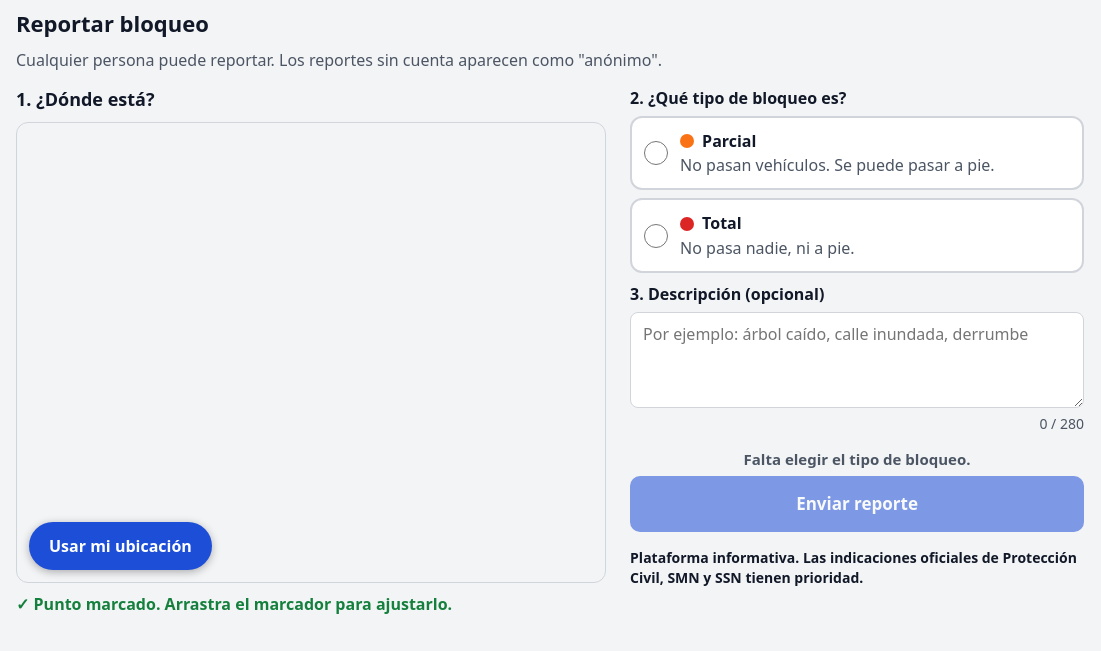
ReportarBloqueo › muestra el mensaje de límite de reportes y conserva el formulario
Click the radio button labelled "Total No pasa nadie, ni a pie.". click: click(656, 236)
box: [644,224,668,248]
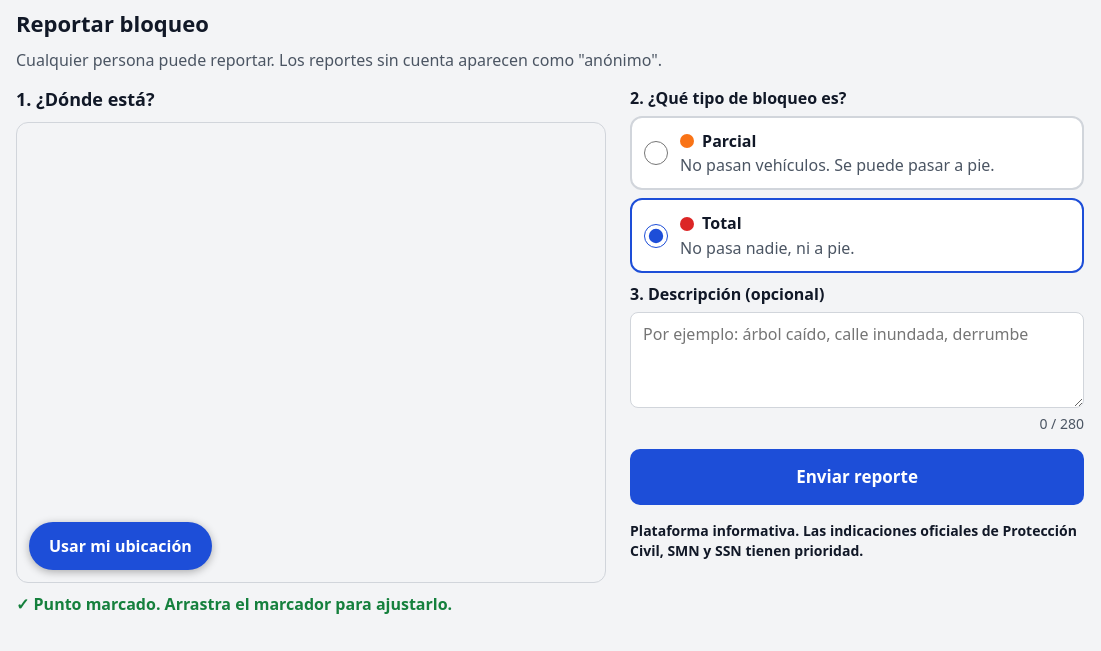
Click the button "Enviar reporte". click: click(857, 477)
box: [630,449,1084,505]
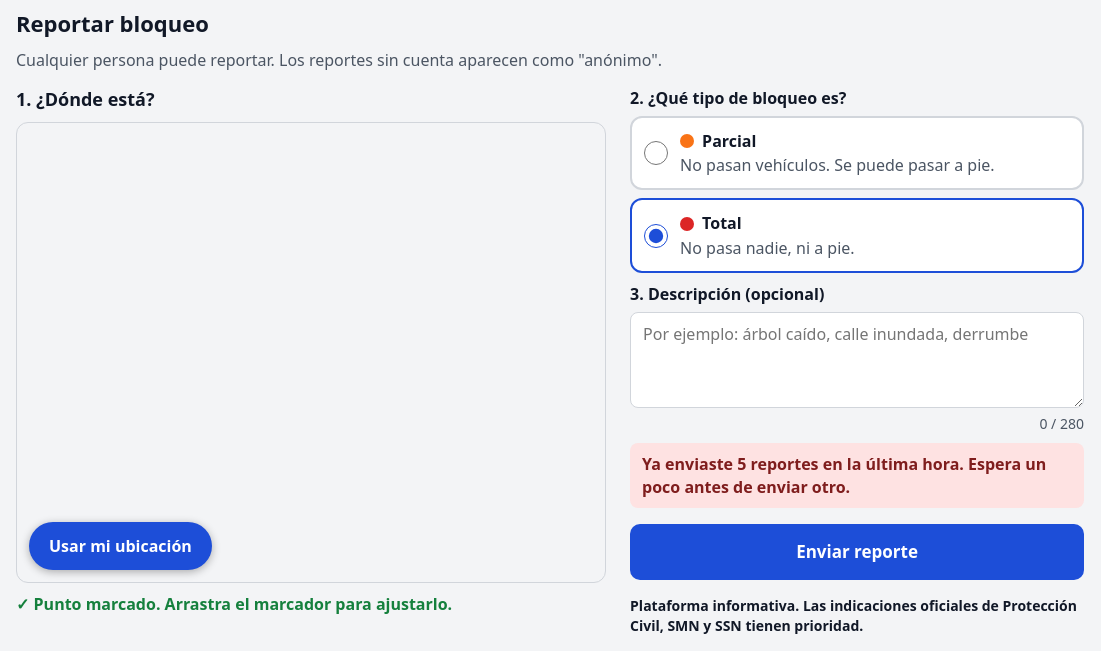
expect the radio button labelled "Total No pasa nadie, ni a pie." is checked: met, box [644,224,668,248]
expect the button "Enviar reporte" is enabled: met, box [630,524,1084,580]
expect the text "Ya enviaste 5 reportes" is shown: met, box [642,453,1046,498]
